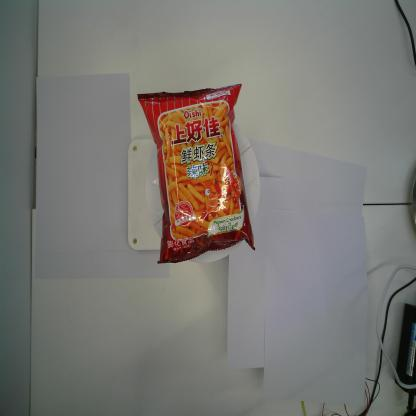Puffed Food: (136, 82, 256, 266)
